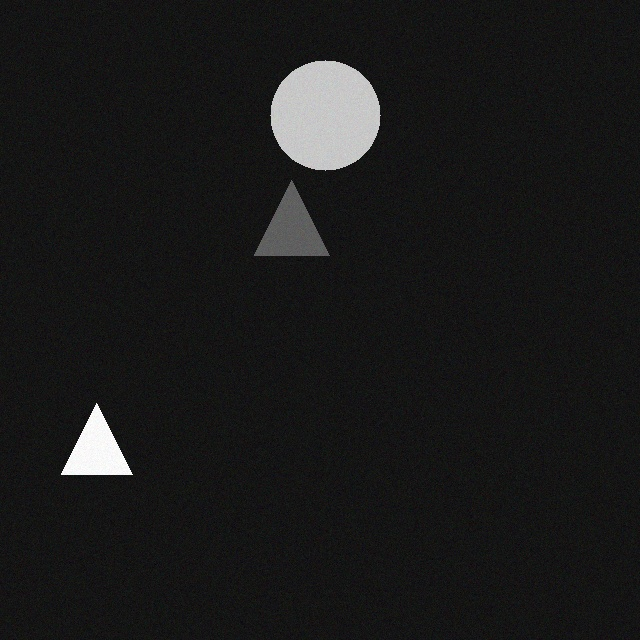circle: (277, 54, 387, 164)
triangle: (261, 174, 336, 249), (68, 397, 139, 468)
